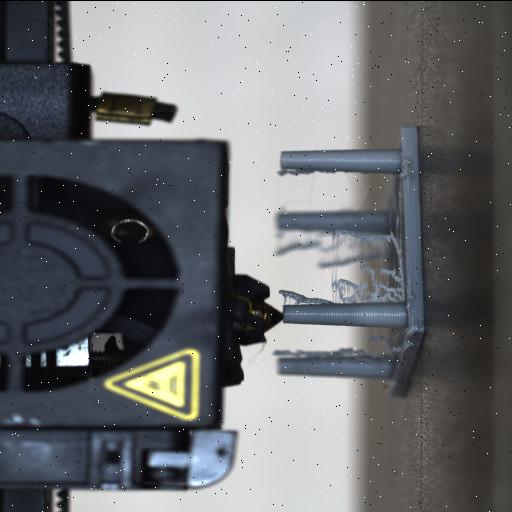stringing: (282, 234, 410, 304)
